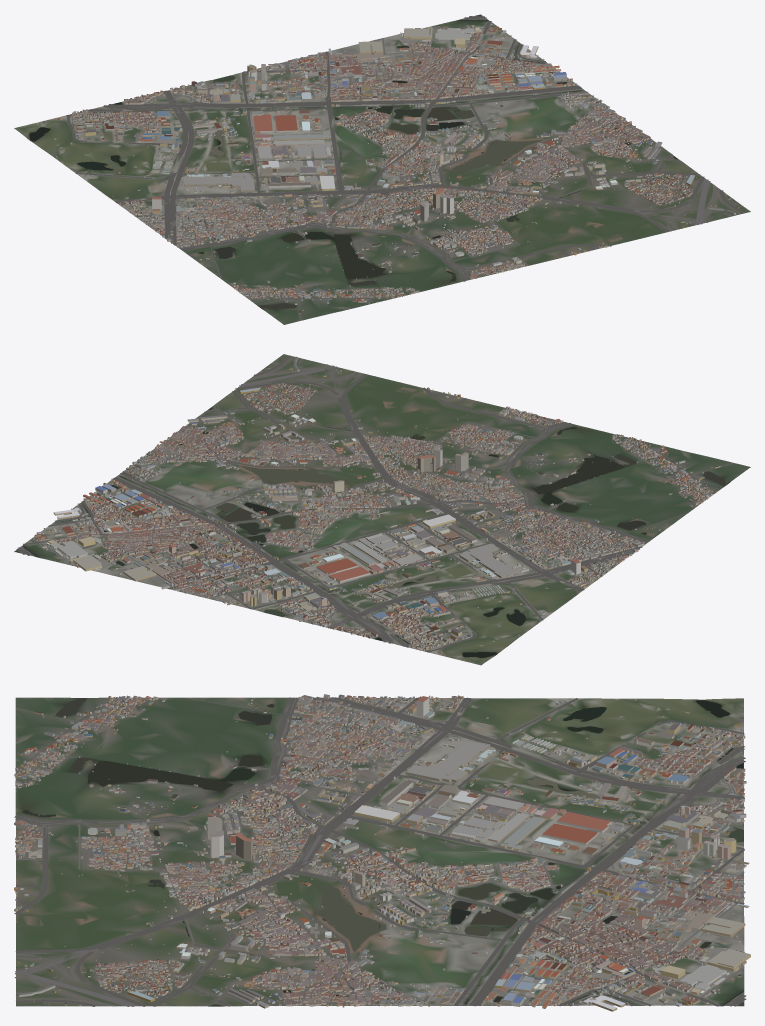
3 views of the same model, one above another, from view 1: azimuth 30°, elevation 25°; view 2: azimuth 150°, elevation 25°; view 3: azimuth 270°, elevation 25° (orthographic). The views are drawn at different scales.
Parts seen in each view (by area): view 1: ground, buildings, roads, water; view 2: ground, buildings, roads, water; view 3: ground, buildings, roads, water.
Part boxes in pixels (left/top/right/bottom): ground: left=14, top=16, right=750, bottom=324; buildings: left=56, top=24, right=739, bottom=313; roads: left=66, top=16, right=745, bottom=299; water: left=29, top=14, right=677, bottom=309; ground: left=14, top=354, right=750, bottom=665; buildings: left=30, top=356, right=720, bottom=653; roads: left=16, top=355, right=706, bottom=652; water: left=14, top=407, right=728, bottom=657; ground: left=15, top=697, right=744, bottom=1006; buildings: left=14, top=694, right=750, bottom=1011; roads: left=14, top=696, right=746, bottom=1006; water: left=22, top=698, right=743, bottom=1006.
Bounding box in the file's own units: 2866 × 98.33 × 2837.
